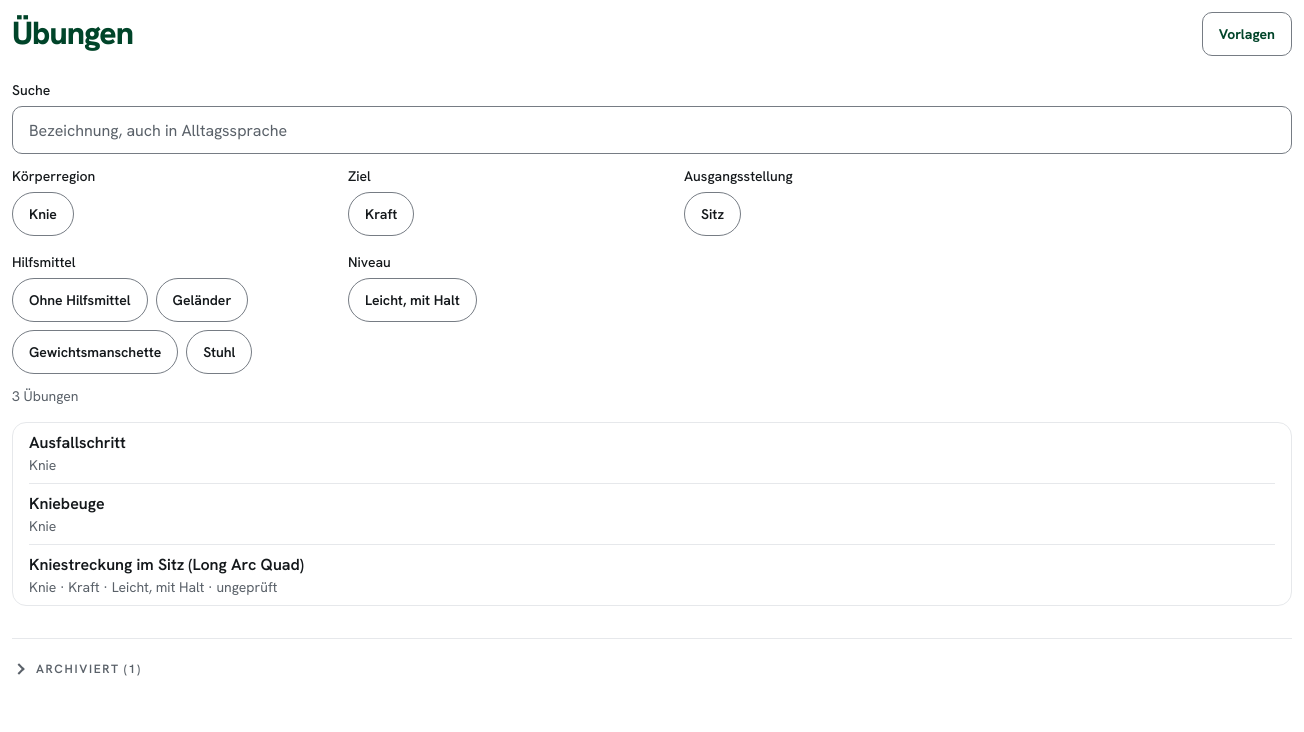
Test: Katalog und Suche (UEB-003, Welle B: Filterchips) › filtert mit Chips nach Region, Hilfsmittel und Ziel und setzt zurück
The image size is (1304, 732).
Expected: the link "Kniebeuge Knie" is shown, [29,493,104,535]
Click the button "Geländer": (202, 300) [156,278,248,322]
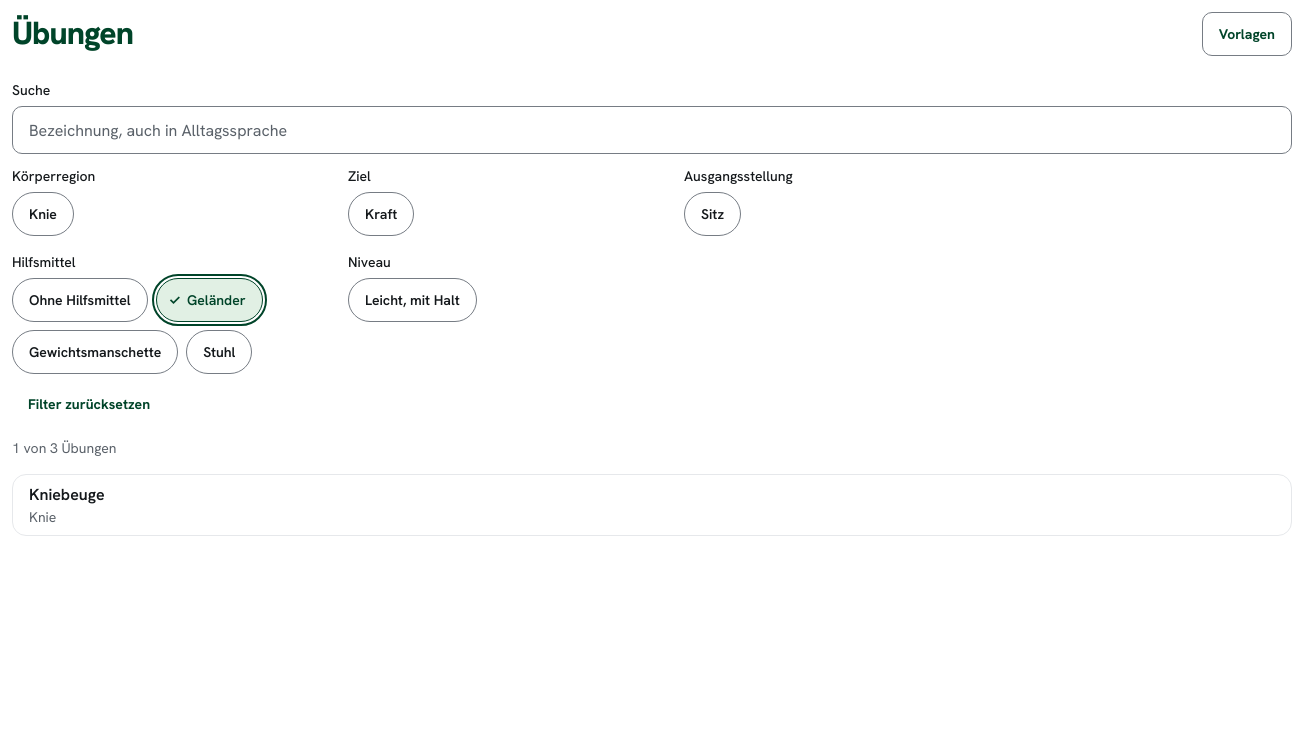
Expected: the message reads "1 von 3 Übungen", [12,439,116,457]
Click the button "✓ Geländer": (209, 300) [156,278,263,322]
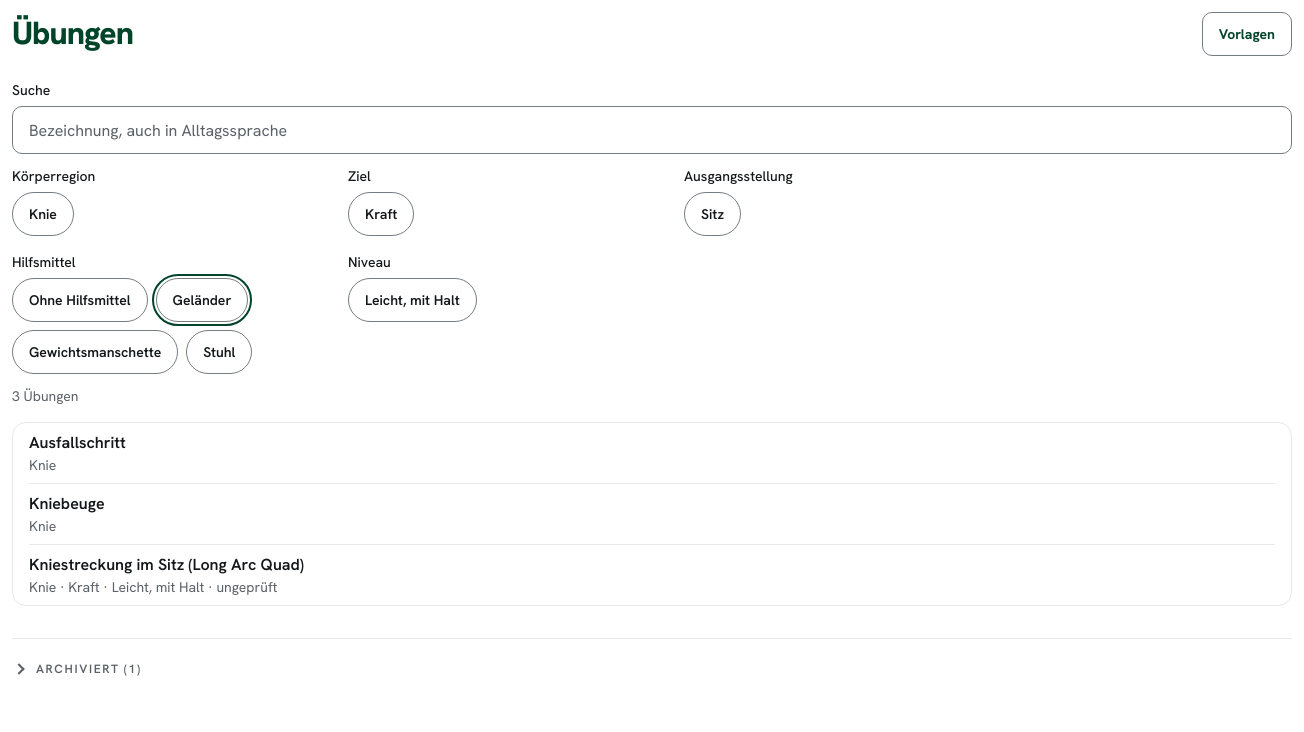
Click the button "Kraft": (381, 214) [348,192,414,236]
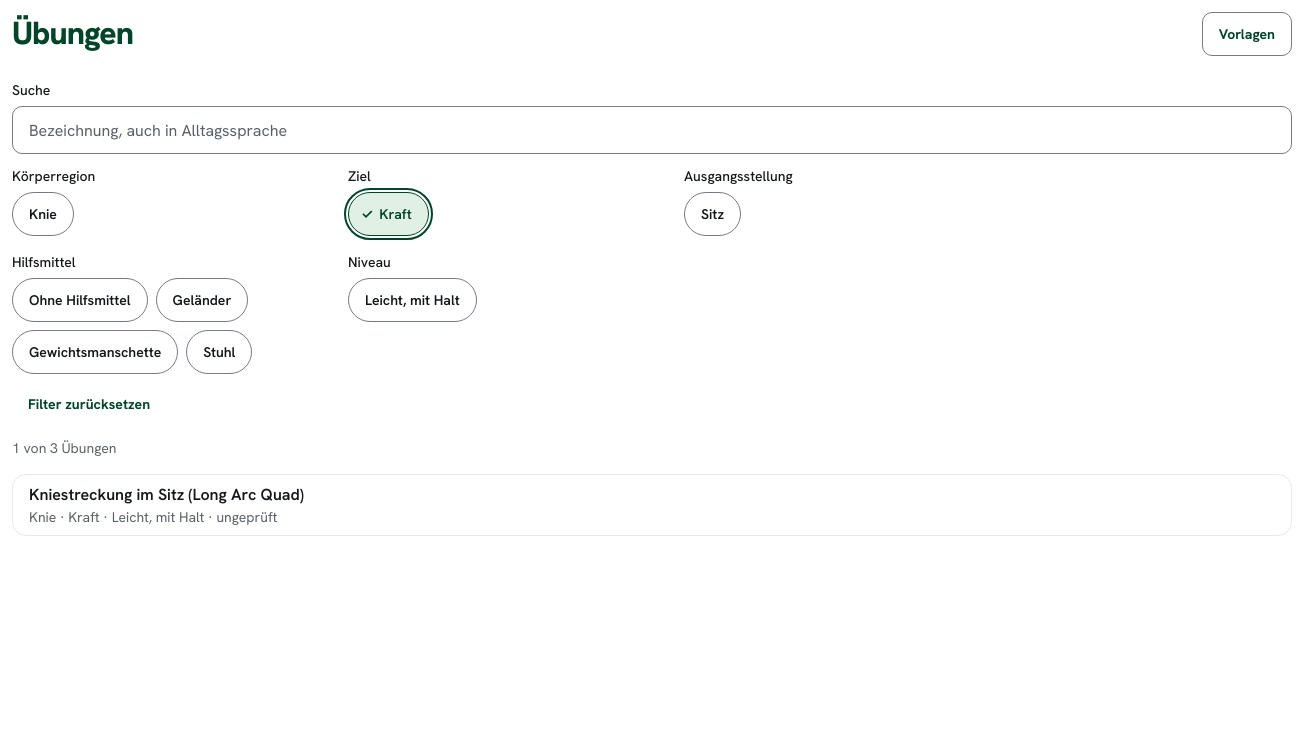
Expected: the message reads "1 von 3 Übungen", [12,439,116,457]
Click the button "Ohne Hilfsmittel": (80, 300) [12,278,148,322]
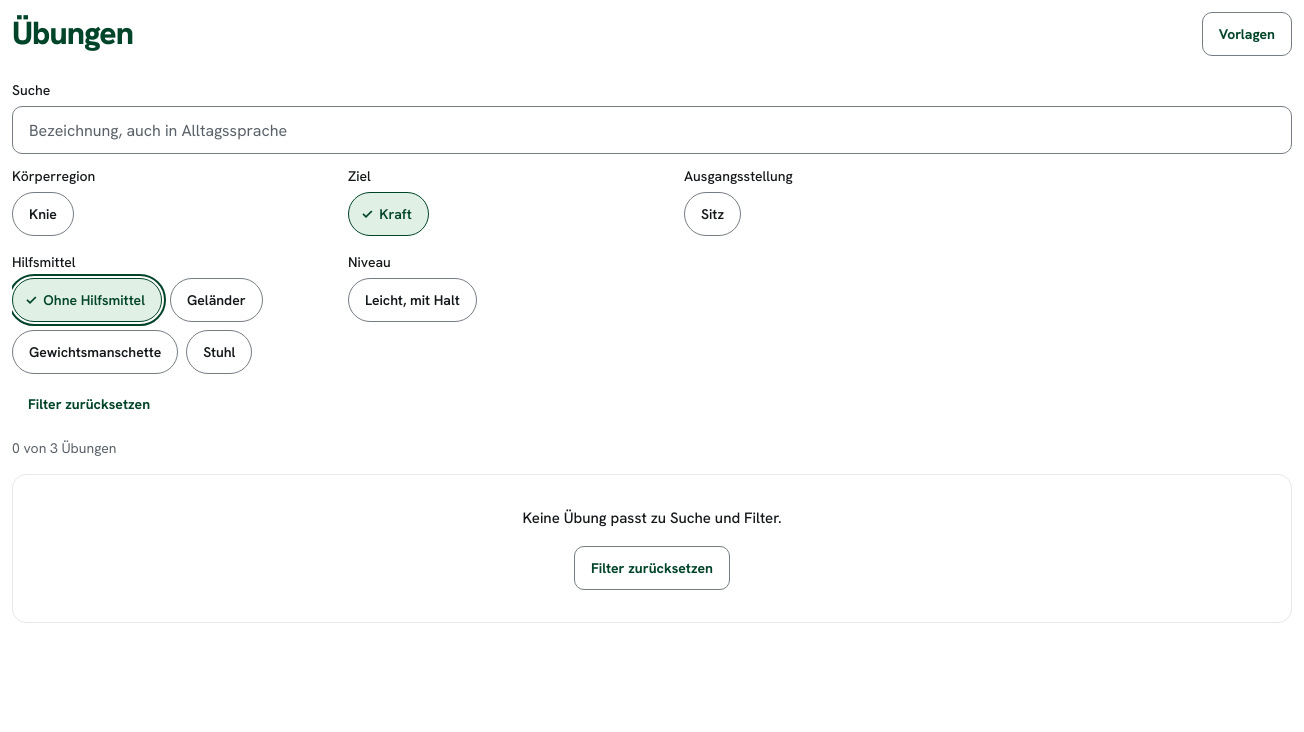
Expected: the text "Keine Übung passt zu Suche und Filter." is shown, [522,508,782,528]
Click the button "Filter zurücksetzen" below "Niveau": (89, 404) [12,382,166,426]
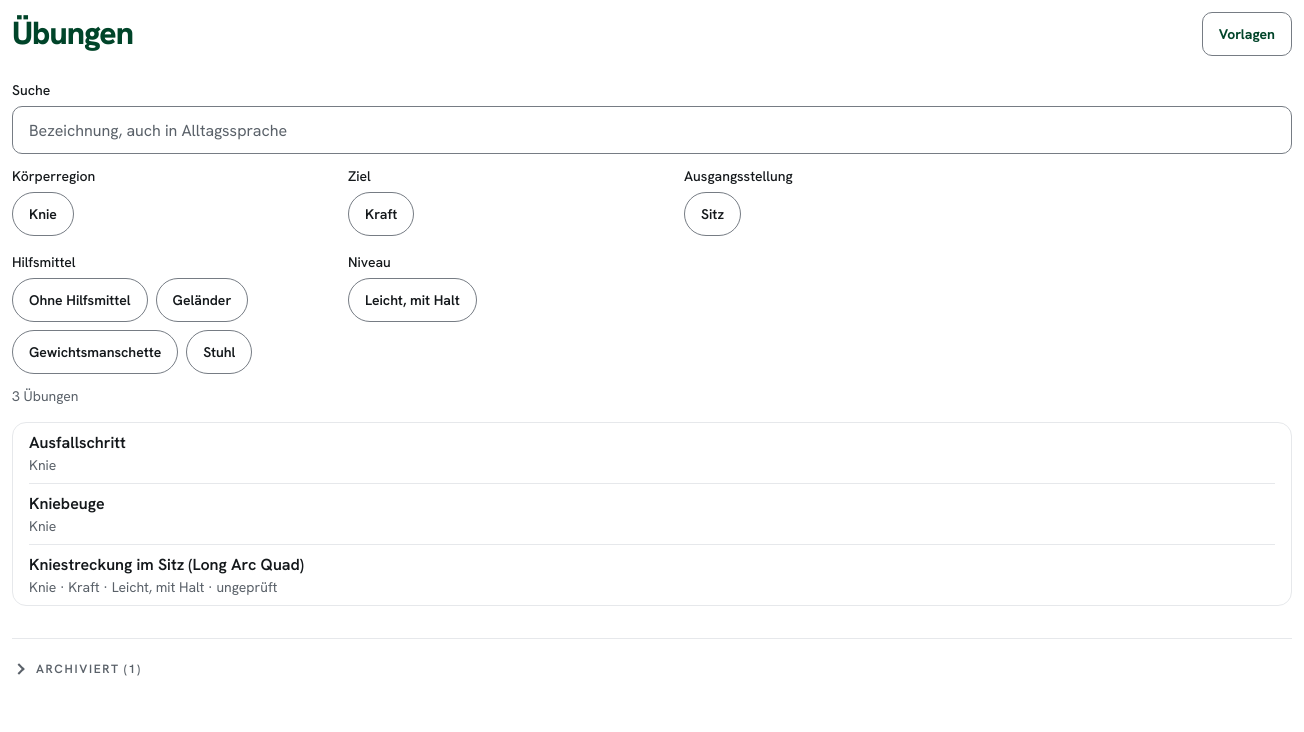
Expected: the number of links "Ausfallschritt Knie" is 3, [29,432,126,474]; [29,493,104,535]; [29,554,304,596]
